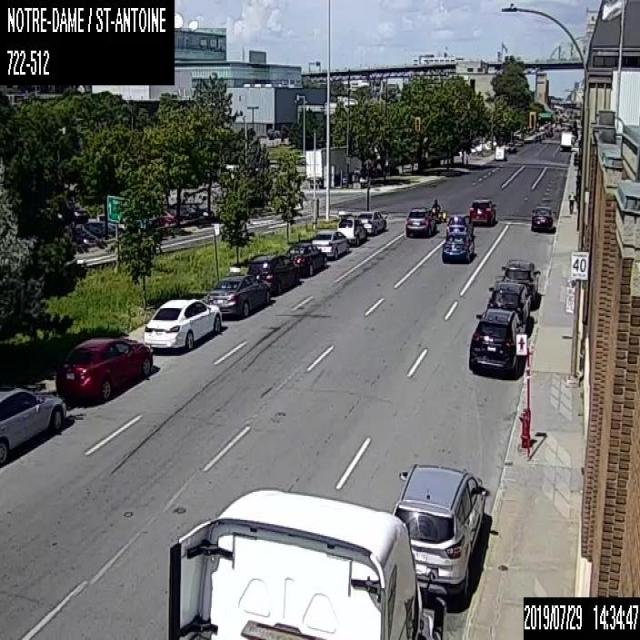pedestrian: (566, 190, 574, 213)
vehicle: (166, 488, 446, 638), (392, 464, 487, 598), (55, 337, 152, 399), (0, 382, 65, 465), (143, 297, 221, 351), (468, 308, 525, 369), (206, 274, 271, 317), (305, 145, 361, 187), (247, 254, 298, 293), (486, 281, 530, 323), (501, 258, 540, 300), (286, 242, 326, 274), (311, 229, 348, 258), (441, 231, 474, 262), (404, 205, 436, 236), (336, 216, 366, 245), (357, 208, 386, 235), (468, 197, 496, 223), (445, 213, 473, 237), (529, 202, 553, 230), (428, 197, 446, 221), (560, 129, 572, 150), (506, 141, 516, 152)
